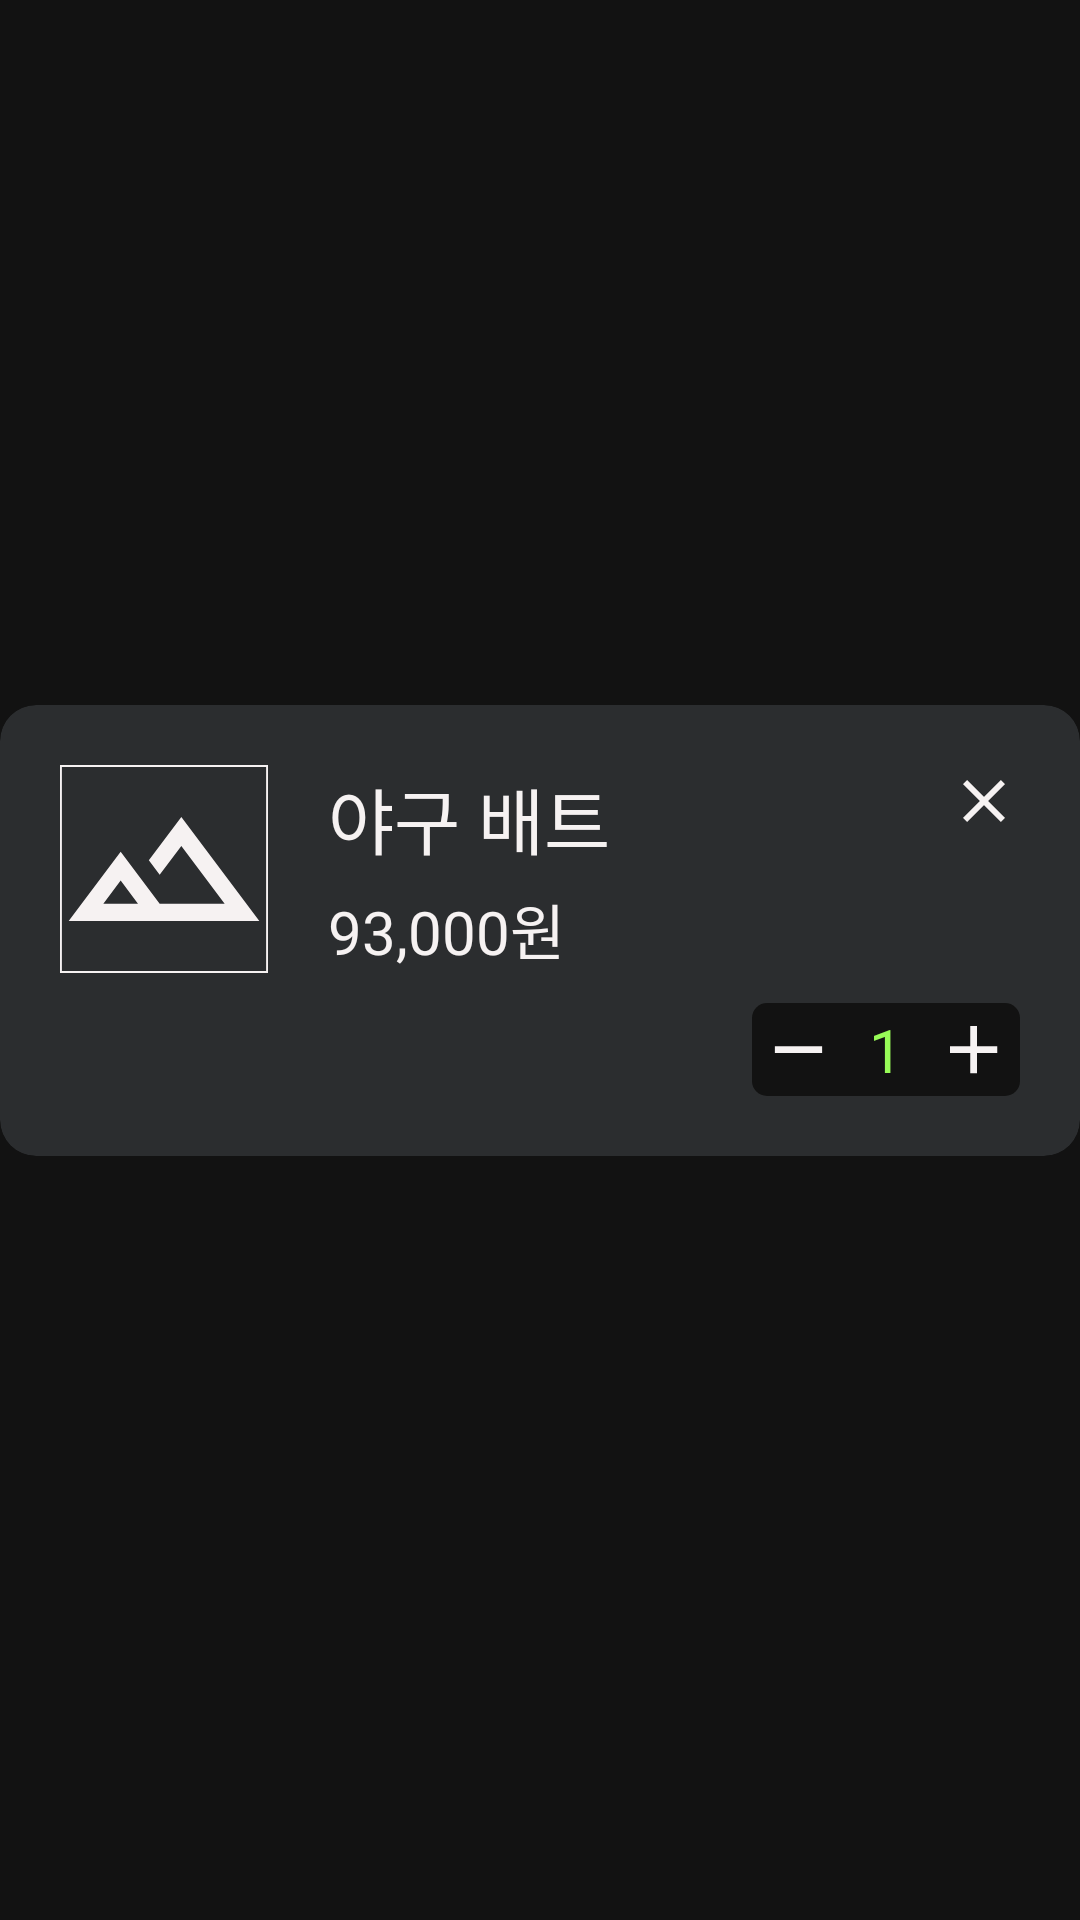

Point at icon controls on the screen. Image size 1080 × 1920, points as (x=x, y=y).
close: (x=984, y=801)
plus: (x=974, y=1050)
